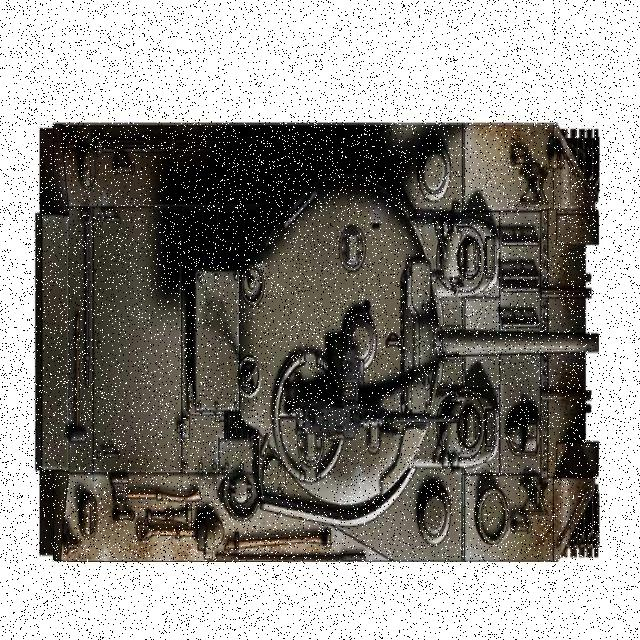MIL_MBT: (63, 124, 599, 561)
